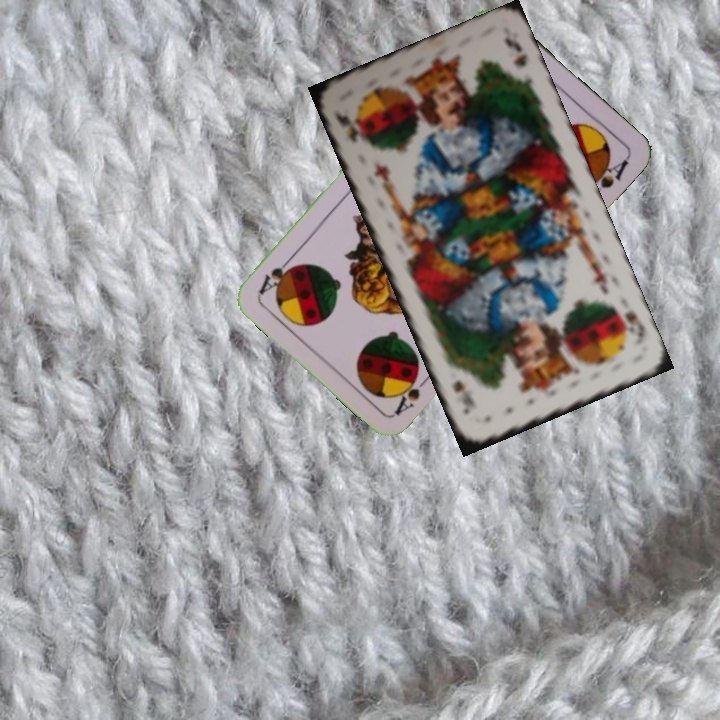SA: (390, 368, 435, 418)
SK: (609, 300, 648, 348), (330, 106, 364, 145)
